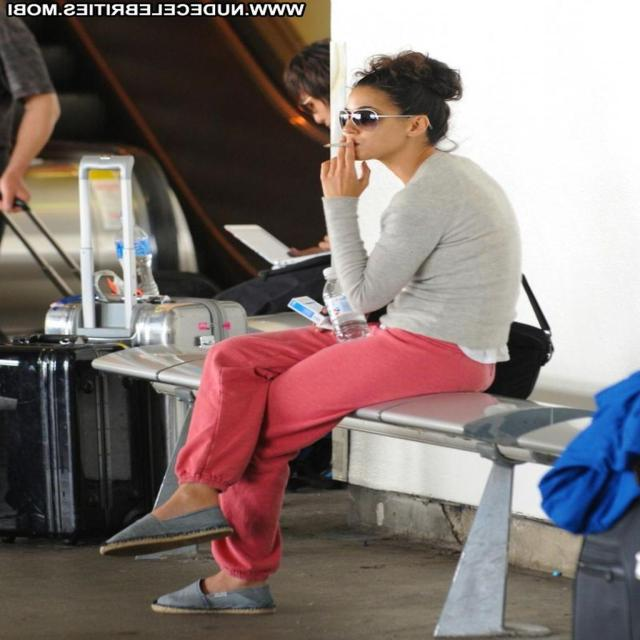smoking: (322, 55, 448, 163)
